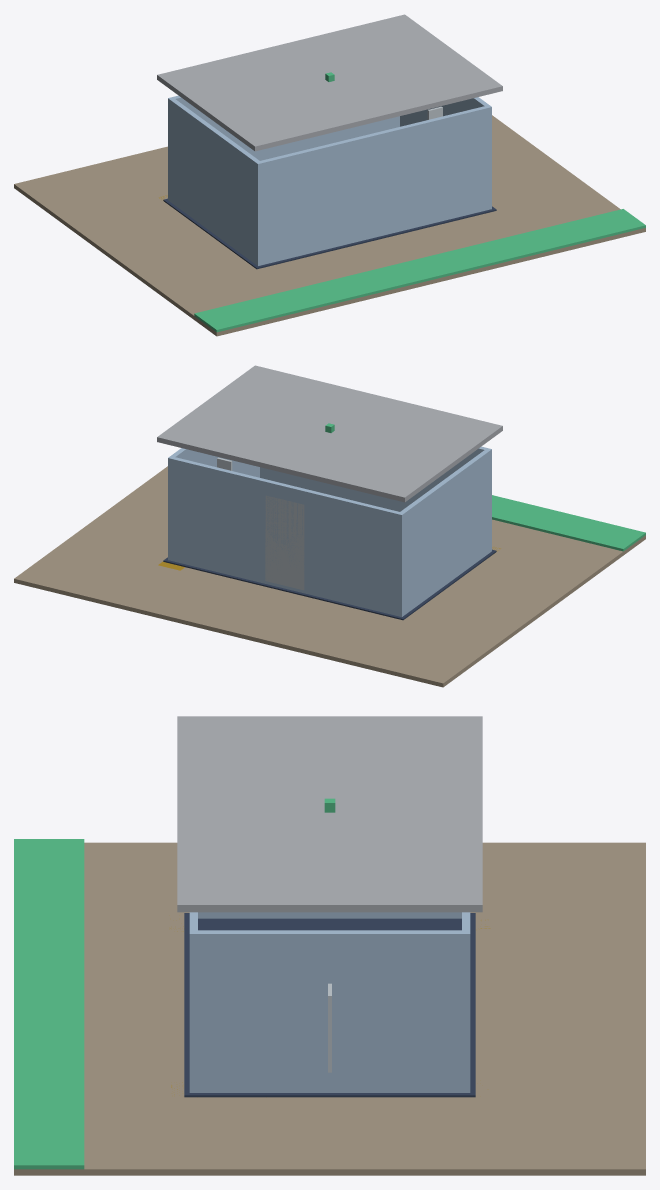
The model's file is construction_master.glb.
3 renders of one model, top to bottom at view 1: azimuth 30°, elevation 25°; view 2: azimuth 150°, elevation 25°; view 3: azimuth 270°, elevation 25°, orthographic. The views are drawn at different scales.
Parts seen in each view (by area): view 1: world; view 2: world; view 3: world.
Part boxes in pixels (<box>): world: <box>14,14,645,336</box>; world: <box>14,365,645,687</box>; world: <box>14,716,645,1175</box>.
Bounding box in the file's own units: 11 × 4.03 × 9.
